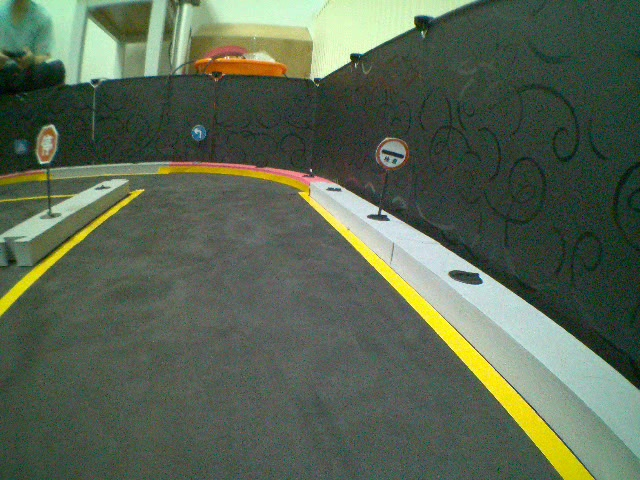Check: (376, 137, 409, 169)
Stop: (35, 124, 58, 164)
turn: (190, 123, 207, 142)
